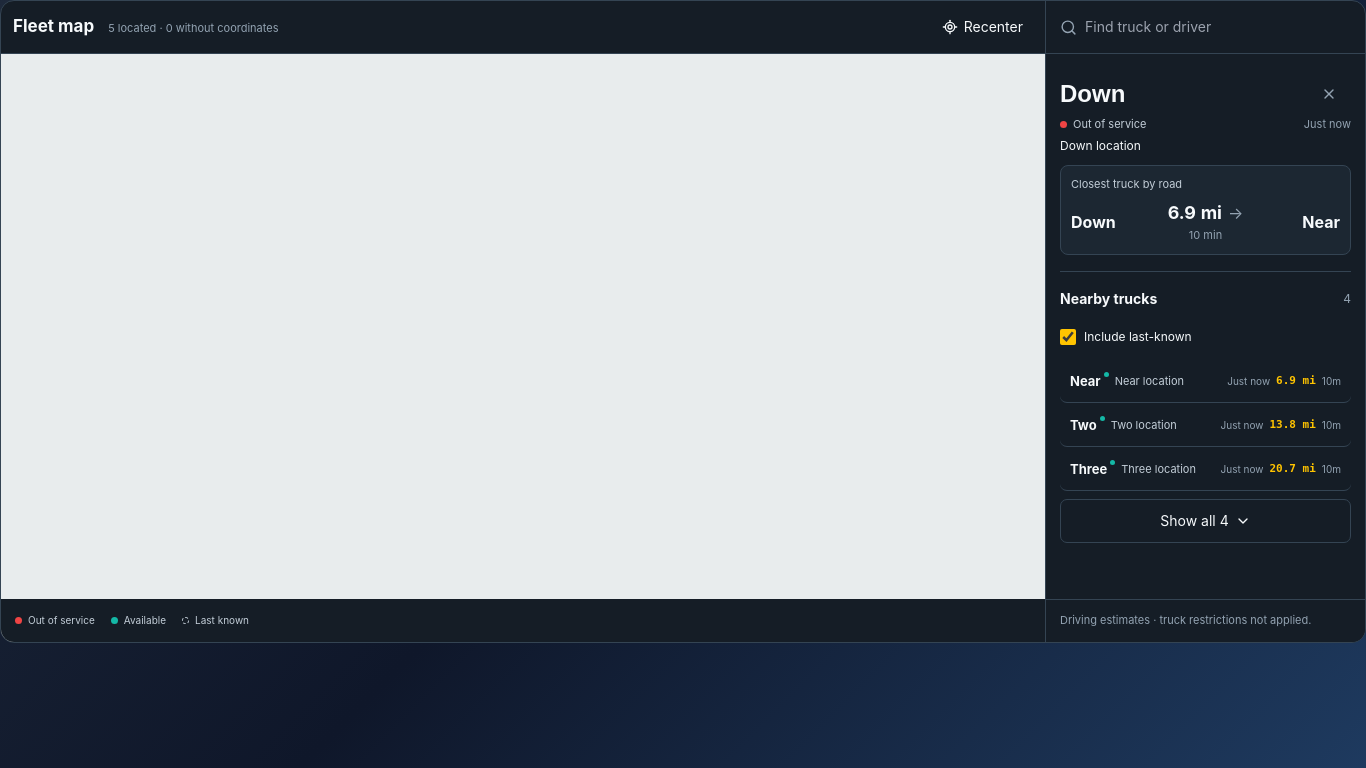
it: map workspace › expands nearest three, changes the comparison origin, and clears selection
This screenshot has width=1366, height=768.
Click the button "Show all 4" at (1206, 521), box [1060,499,1351,543]
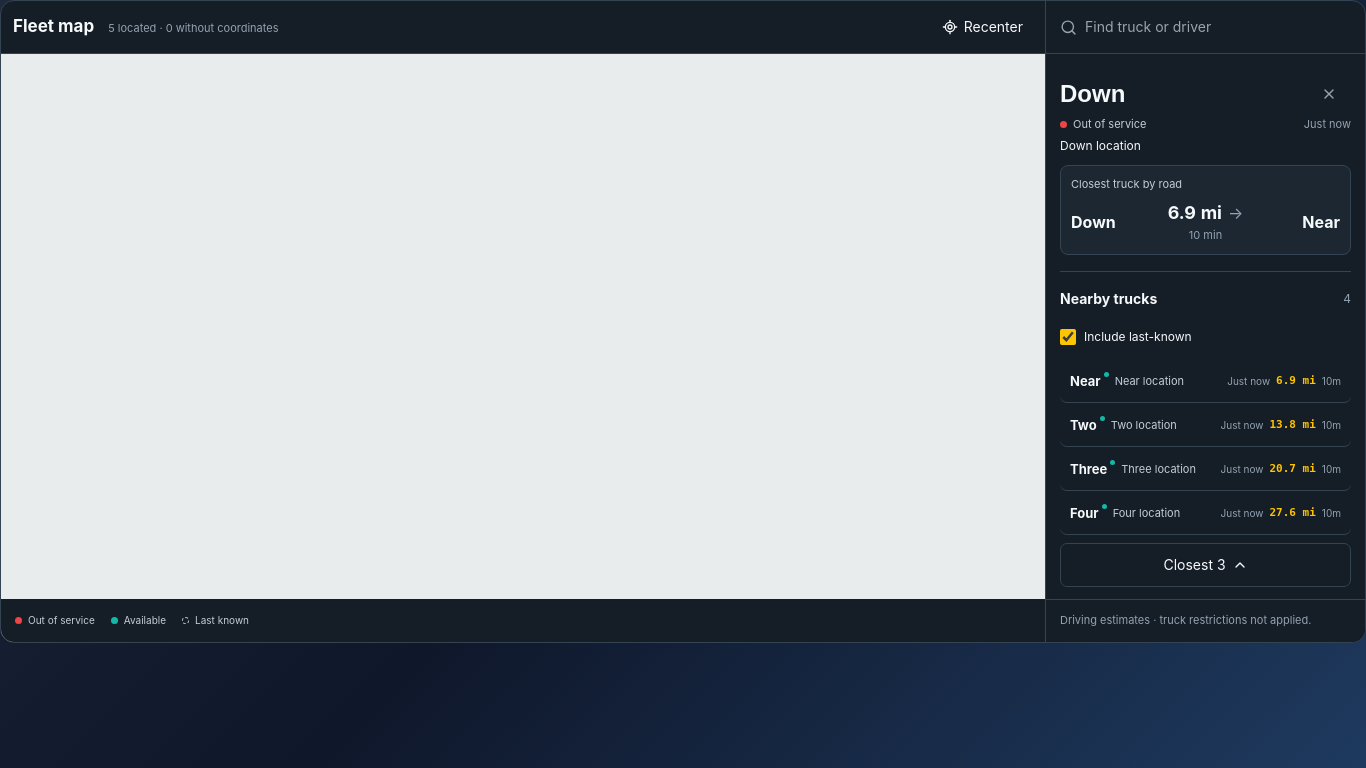
Click the button "Four Four location Just now 27.6 mi 10m" at (1146, 512), box [1060,491,1351,535]
Wait 251 ms
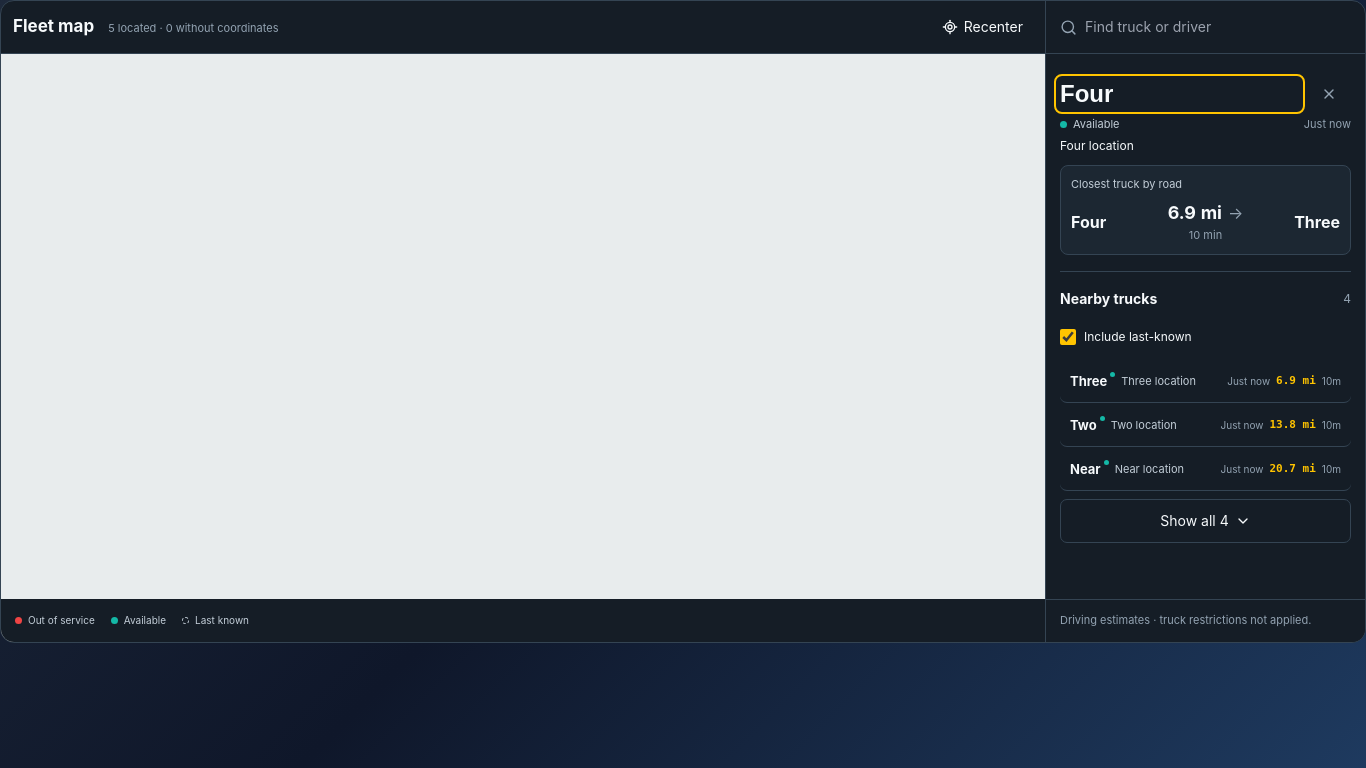
Expected: the 1st text "Four" is shown, [1060,80,1113,107]
Expected: the button "Show all 4" is collapsed, [1060,499,1351,543]
Click the button named "Clear selected truck" at (1329, 94), box [1307,72,1351,116]
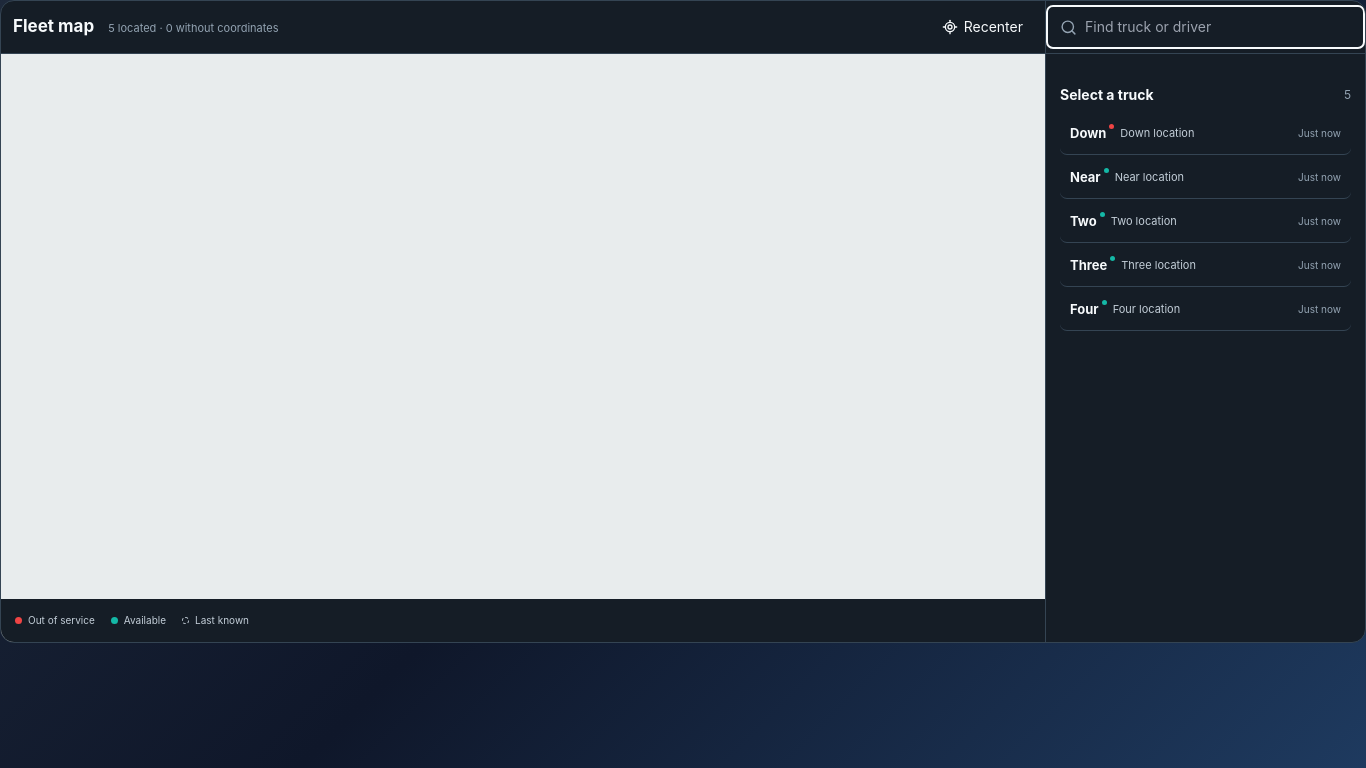
Expected: the heading "Select a truck" is shown, [1060,84,1154,105]
